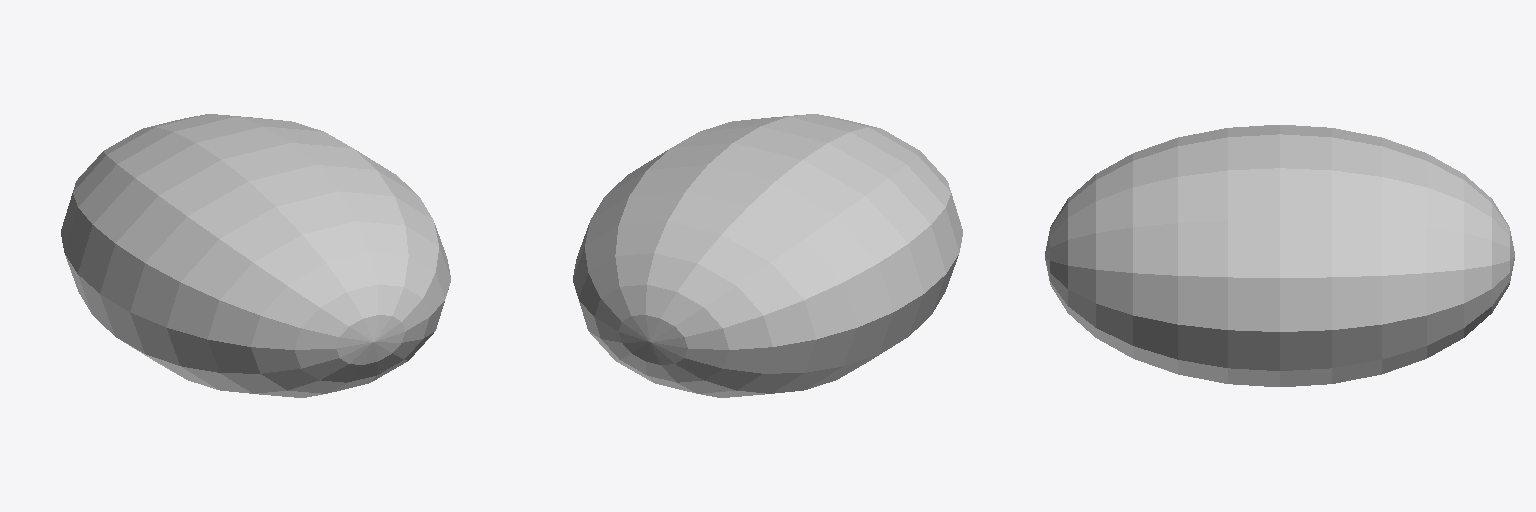
File: WideOval.obj
The picture shows the model from 3 angles: view 1: azimuth 30°, elevation 25°; view 2: azimuth 150°, elevation 25°; view 3: azimuth 270°, elevation 25°; orthographic projection.
Visible parts, largest first — view 1: pSphere1; view 2: pSphere1; view 3: pSphere1.
Boxes of the visible parts, box(x1,y1,x2,y2) form: pSphere1: box(61, 114, 450, 397); pSphere1: box(573, 114, 962, 397); pSphere1: box(1045, 125, 1514, 386).
Size of the model in its own units: 3.04 by 1.95 by 3.97.